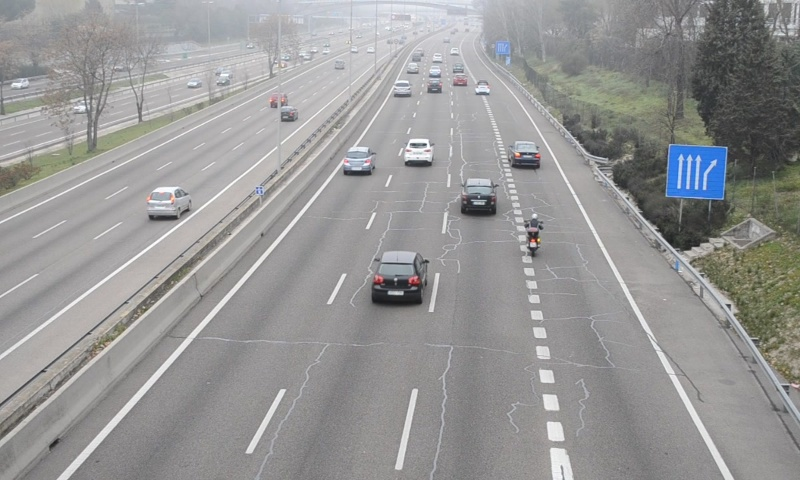car: (372, 252, 424, 304), (459, 178, 496, 213), (342, 146, 376, 173), (510, 140, 540, 168), (404, 138, 434, 166), (392, 80, 412, 98), (426, 78, 441, 94), (476, 79, 490, 96)
motorcycle: (522, 212, 545, 258)
